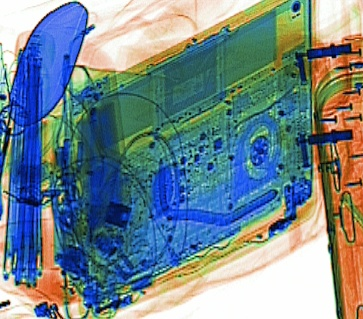powerbank: (62, 66, 132, 240)
